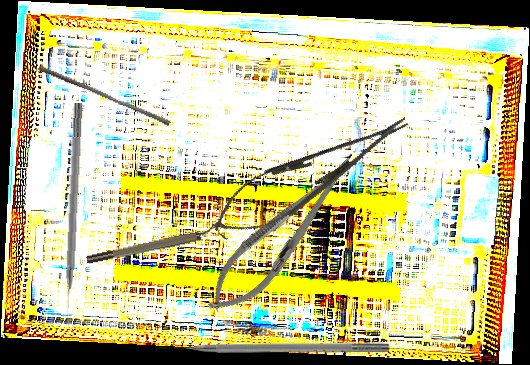Fixation Ring: (84, 220, 229, 267)
Needle Holder: (201, 98, 421, 252), (194, 143, 371, 328)
Pusher: (35, 64, 173, 127), (59, 102, 84, 324), (156, 340, 390, 353)
